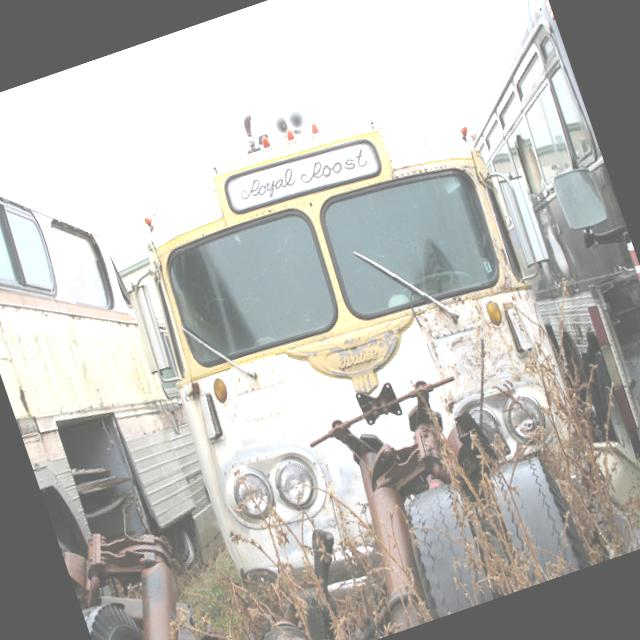Vehicle: (104, 82, 624, 640), (0, 65, 243, 601), (411, 0, 640, 557)
